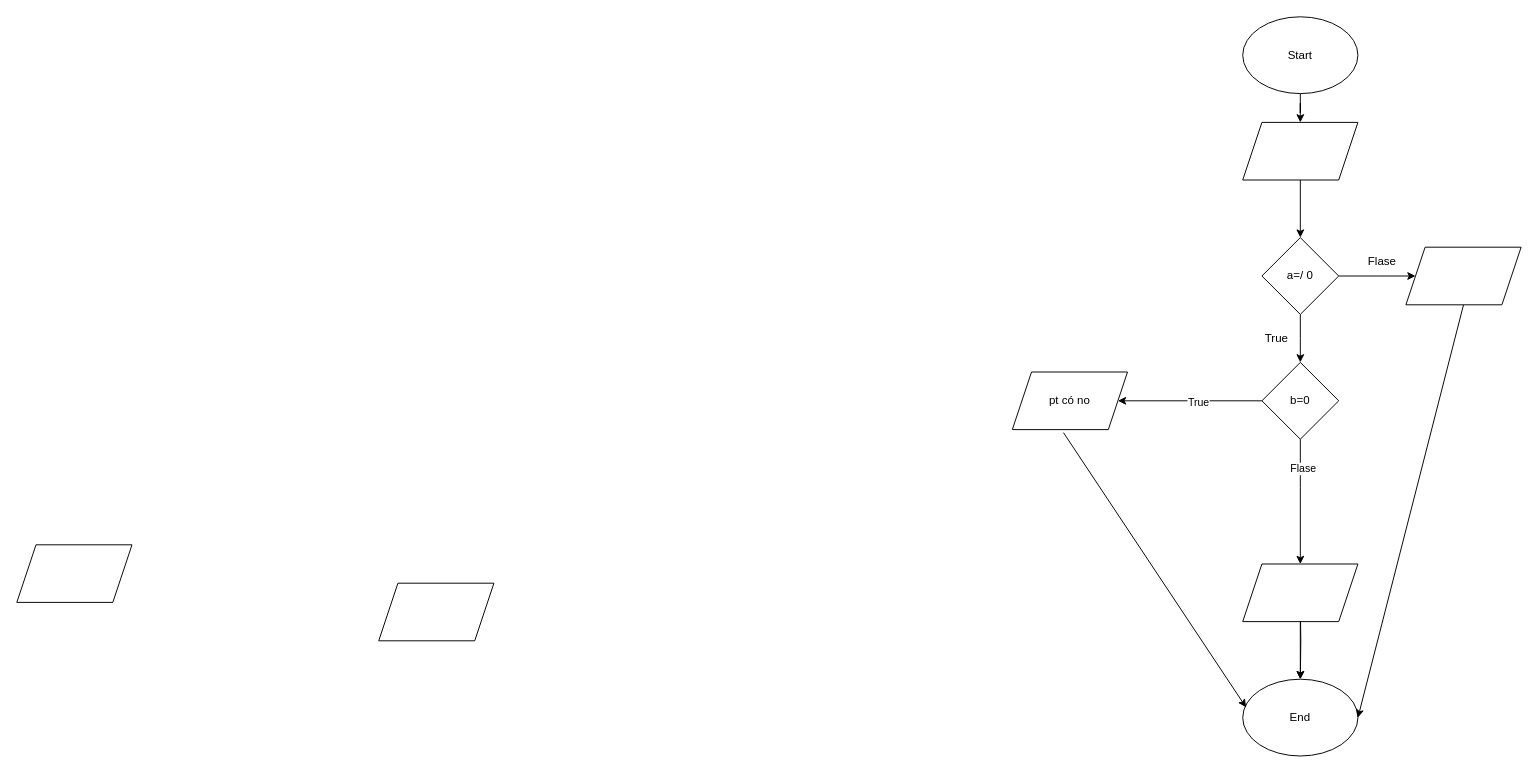
Some shapes in this 1538 by 773 pixel diagram are drawn without their labels. The shapes that lost their labels are listed below. From the top down, each one's centre as x and y in pixels, then its label:
the point at 1300,150: Nhập a,b
the point at 1463,275: S= -b/a
the point at 1300,592: Pt vô nghiệm
